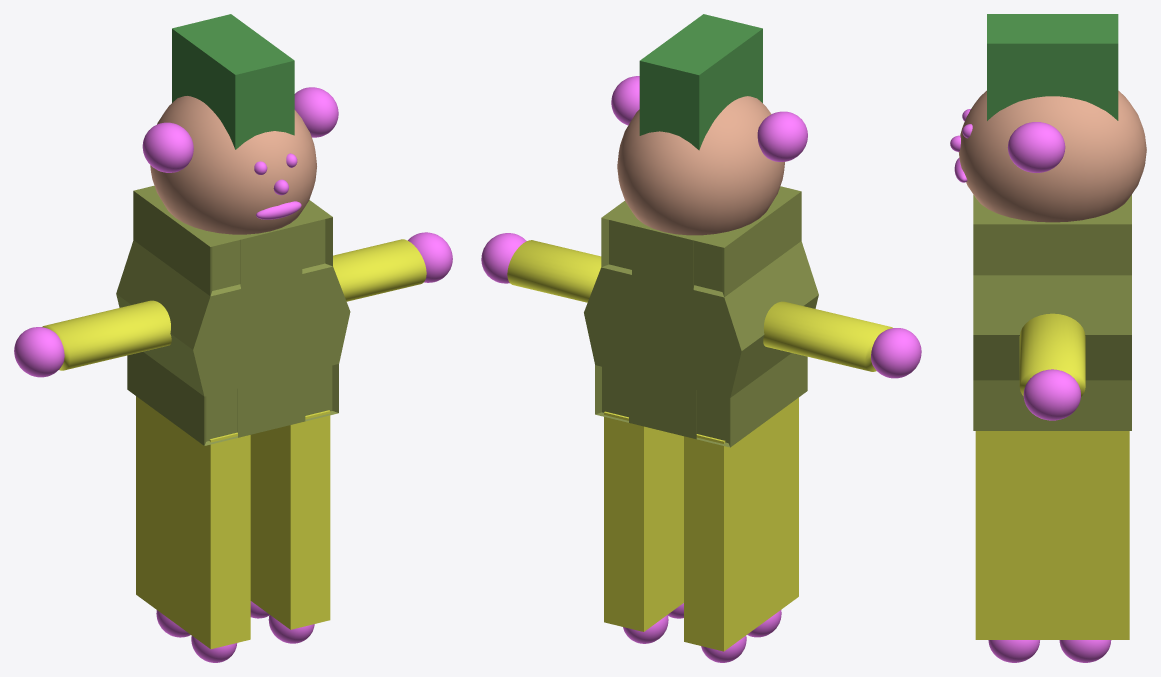
Rendered from BADUT.fbx.
The picture shows the model from 3 angles, left to right: view 1: azimuth 30°, elevation 25°; view 2: azimuth 150°, elevation 25°; view 3: azimuth 270°, elevation 25°; orthographic projection. The views are drawn at different scales.
Visible parts, largest first — view 1: Cube.002, Cube.003, Sphere, Cube.001, Cylinder.001, Cylinder, Sphere.002, Sphere.004, Sphere.001, Sphere.003, Sphere.010, Sphere.012; view 2: Cube.002, Cube.003, Sphere, Cube.001, Cylinder.001, Cylinder, Sphere.002, Sphere.004, Sphere.003, Sphere.001; view 3: Cube.003, Cube.002, Sphere, Cube.001, Cylinder, Sphere.003, Sphere.001, Sphere.009, Sphere.010.
Part boxes in pixels (left/top/right/bottom): Cube.002: left=116, top=185, right=350, bottom=445; Cube.003: left=136, top=396, right=330, bottom=649; Sphere: left=150, top=96, right=316, bottom=234; Cube.001: left=172, top=14, right=294, bottom=149; Cylinder.001: left=42, top=300, right=171, bottom=370; Cylinder: left=333, top=239, right=426, bottom=301; Sphere.002: left=142, top=122, right=193, bottom=172; Sphere.004: left=14, top=327, right=64, bottom=377; Sphere.001: left=294, top=87, right=338, bottom=137; Sphere.003: left=408, top=232, right=452, bottom=282; Sphere.010: left=268, top=614, right=314, bottom=643; Sphere.012: left=191, top=635, right=237, bottom=662; Cube.002: left=584, top=186, right=818, bottom=447; Cube.003: left=604, top=397, right=798, bottom=651; Sphere: left=617, top=96, right=784, bottom=235; Cube.001: left=639, top=14, right=762, bottom=150; Cylinder.001: left=763, top=301, right=892, bottom=371; Cylinder: left=507, top=240, right=601, bottom=302; Sphere.002: left=757, top=111, right=807, bottom=161; Sphere.004: left=871, top=328, right=921, bottom=378; Sphere.003: left=481, top=233, right=526, bottom=283; Sphere.001: left=611, top=76, right=639, bottom=125; Cube.003: left=975, top=431, right=1129, bottom=639; Cube.002: left=973, top=195, right=1131, bottom=430; Sphere: left=958, top=90, right=1146, bottom=222; Cube.001: left=987, top=14, right=1118, bottom=120; Cylinder: left=1019, top=313, right=1085, bottom=396; Sphere.003: left=1023, top=369, right=1080, bottom=420; Sphere.001: left=1007, top=122, right=1065, bottom=172; Sphere.009: left=1059, top=640, right=1111, bottom=662; Sphere.010: left=988, top=640, right=1039, bottom=662.
Bounding box in the file's own units: 457 × 602 × 175.
